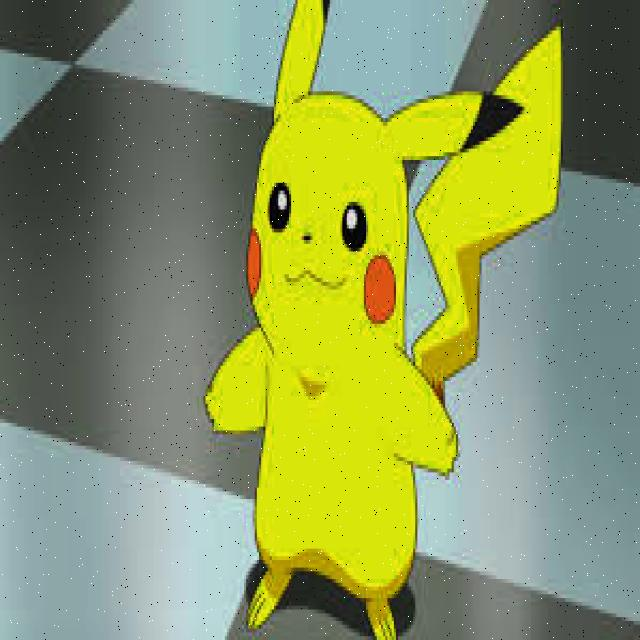pikachu: (202, 4, 550, 640)
